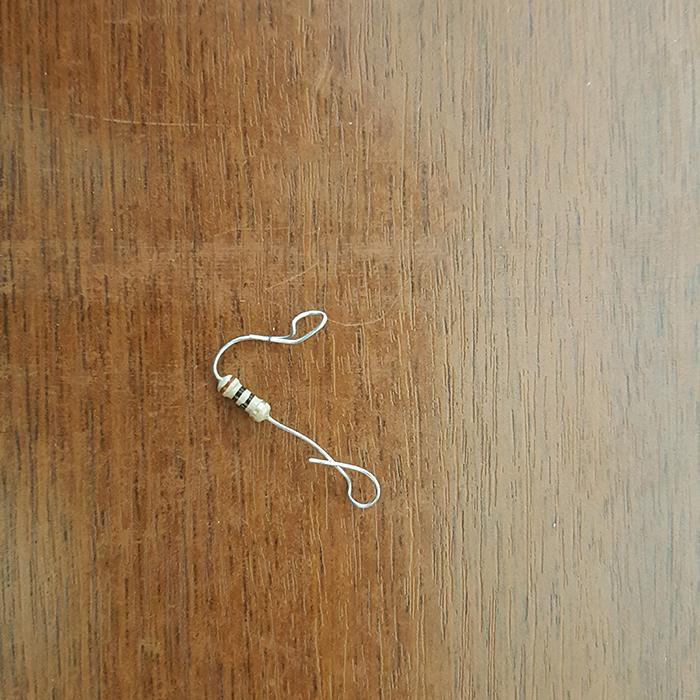resistor: (217, 373, 272, 423)
